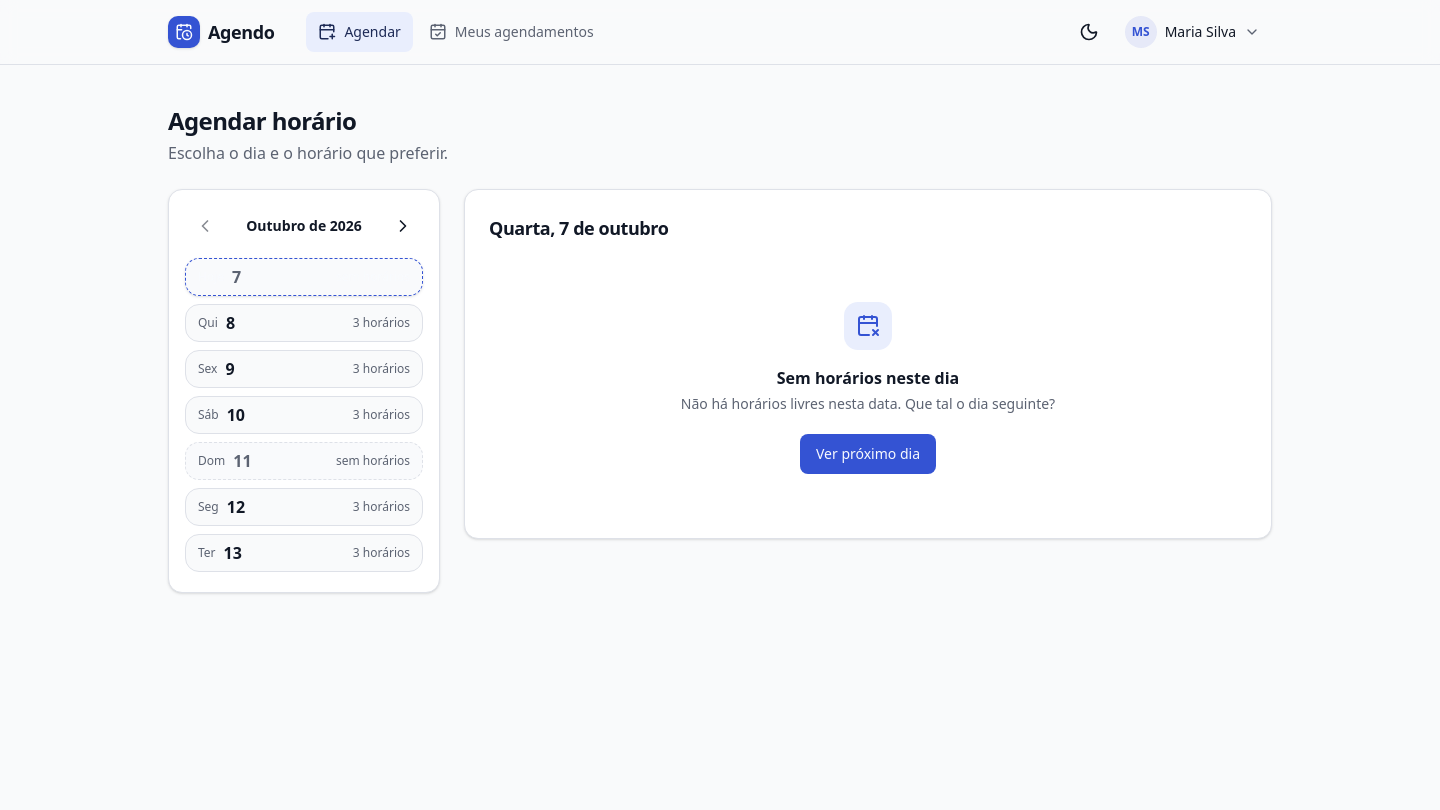
Test: BookPage › offers the next day when the selected day has no slots
This screenshot has width=1440, height=810.
Expected: the text "Sem horários neste dia" is shown, [777,366,959,390]
Click the button "Ver próximo dia".
click(868, 454)  # box [800,434,936,474]
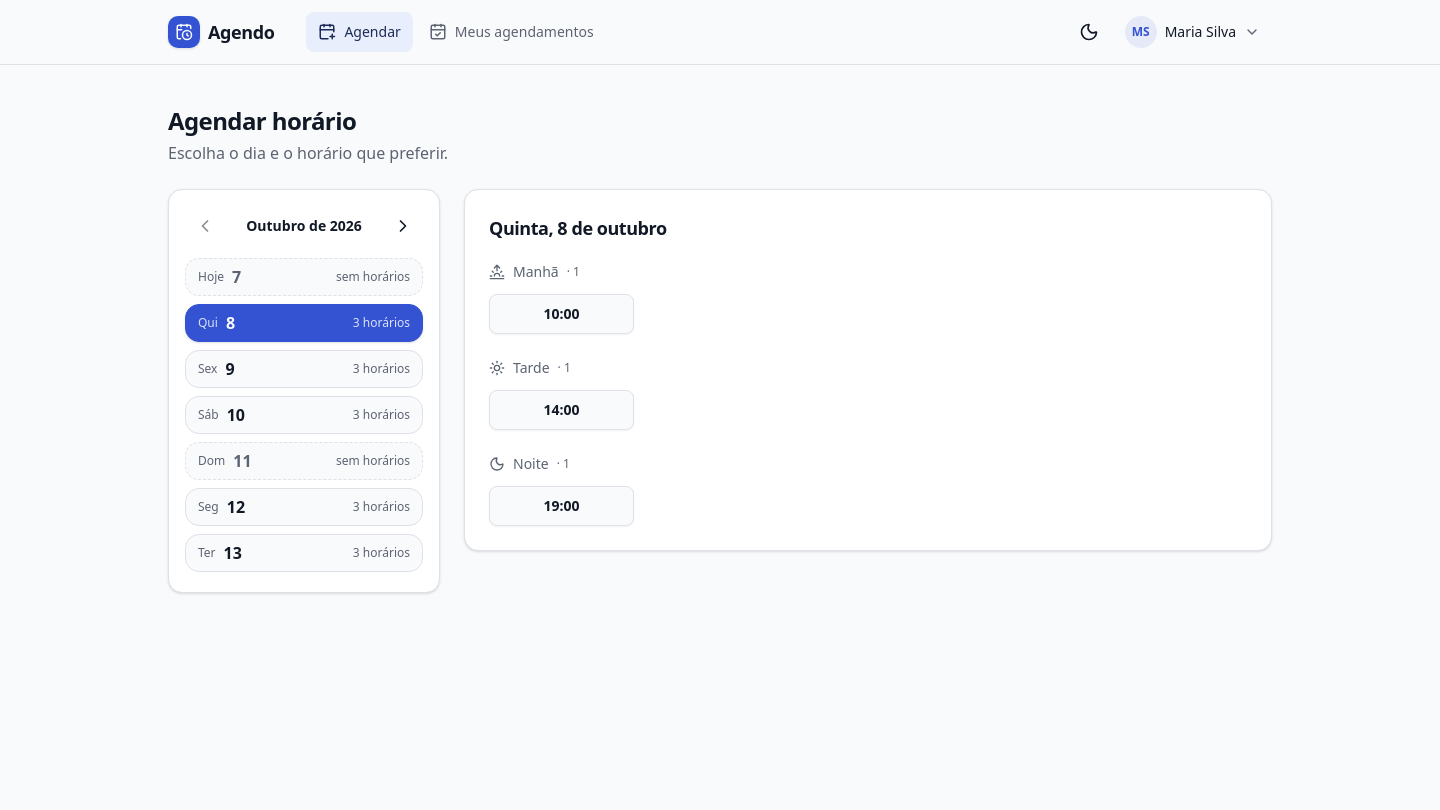
Expected: the heading "Quinta, 8 de outubro" is shown, [489,216,667,240]
Expected: the button "14:00" is shown, [489,390,634,430]
